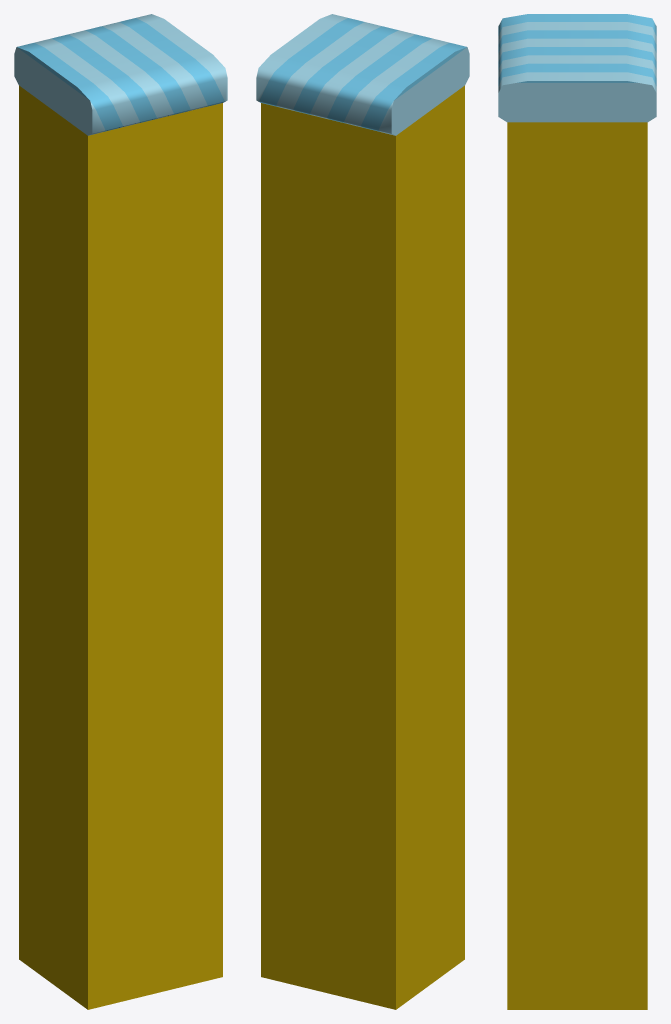
The model's file is floor.fbx.
3 views of the same model, side by side, from view 1: azimuth 30°, elevation 25°; view 2: azimuth 150°, elevation 25°; view 3: azimuth 270°, elevation 25° (orthographic).
Visible parts, largest first — view 1: floor; view 2: floor; view 3: floor.
Part boxes in pixels (left/top/right/bottom): floor: left=14, top=14, right=227, bottom=1009; floor: left=256, top=14, right=469, bottom=1009; floor: left=498, top=14, right=656, bottom=1009.
Size of the model in its own units: 10 by 64.7 by 10.
